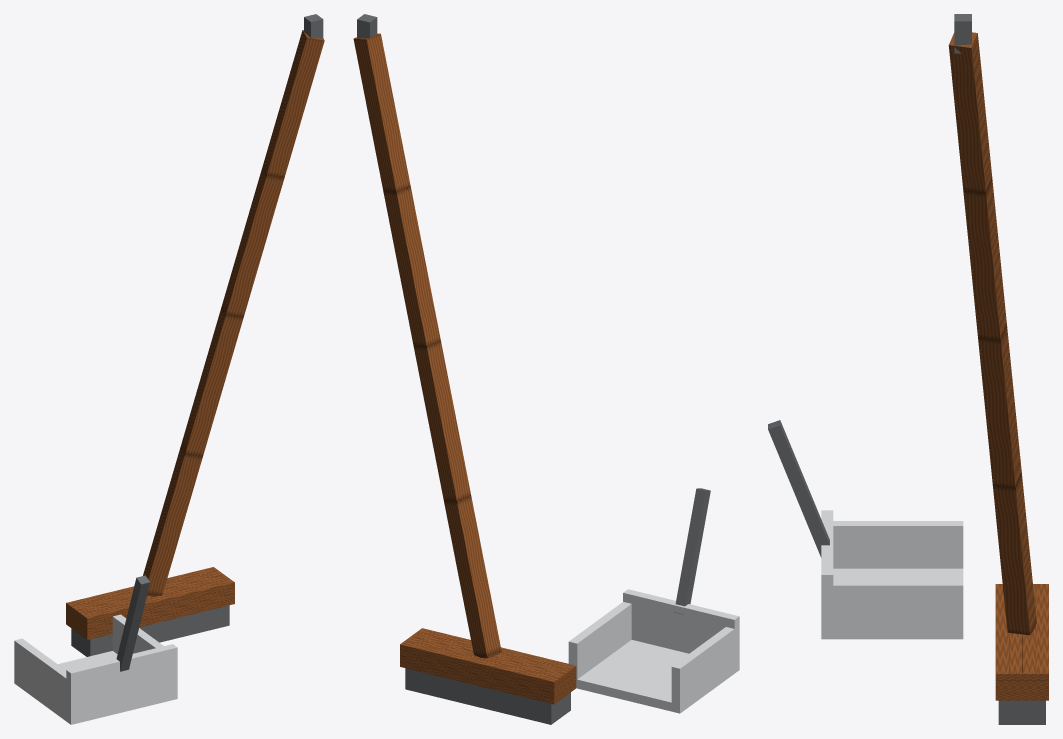
Rendered from car-repair-garage-and-mot-workshop-car-repair-garage-a-7f064a9f__34037.glb.
The picture shows the model from 3 angles, left to right: view 1: azimuth 30°, elevation 25°; view 2: azimuth 150°, elevation 25°; view 3: azimuth 270°, elevation 25°; orthographic projection. The views are drawn at different scales.
Parts seen in each view (by area): view 1: car-repair-garage-and-mot-workshop-sweeping-brush; view 2: car-repair-garage-and-mot-workshop-sweeping-brush; view 3: car-repair-garage-and-mot-workshop-sweeping-brush.
Boxes of the visible parts, x1=… form: car-repair-garage-and-mot-workshop-sweeping-brush: x1=14, y1=14, x2=324, y2=724; car-repair-garage-and-mot-workshop-sweeping-brush: x1=353, y1=14, x2=739, y2=724; car-repair-garage-and-mot-workshop-sweeping-brush: x1=768, y1=14, x2=1048, y2=724.
Bounding box in the file's own units: 0.7541 × 1.4 × 0.4753.
3 materials, 1 textured.
